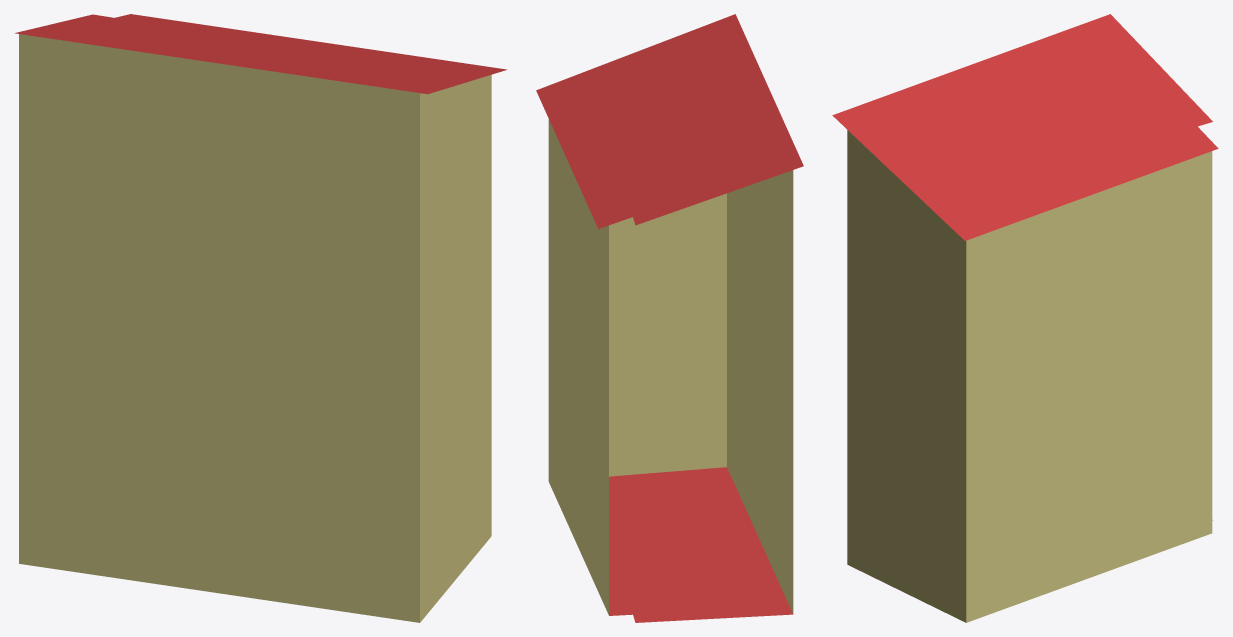
3 views of the same model, side by side, from view 1: azimuth 30°, elevation 25°; view 2: azimuth 150°, elevation 25°; view 3: azimuth 270°, elevation 25° (orthographic). The views are drawn at different scales.
Size of the model in its own units: 9.14 by 8.96 by 11.48.
